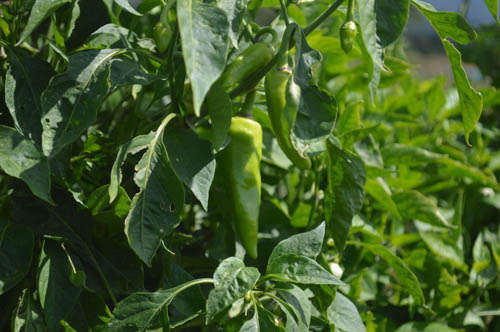ChiliPepper: (214, 114, 267, 265), (265, 69, 319, 170), (207, 37, 276, 98)
